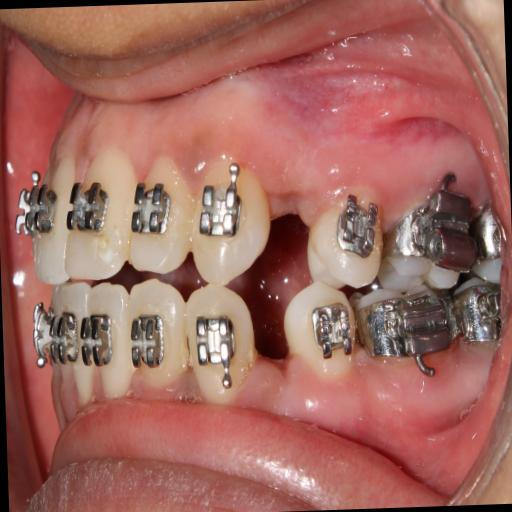correct_brace: (194, 162, 250, 243), (192, 310, 242, 396), (304, 298, 354, 365), (128, 178, 172, 242), (129, 308, 167, 374)
incorrect_brace: (123, 152, 192, 280), (126, 275, 190, 399)
